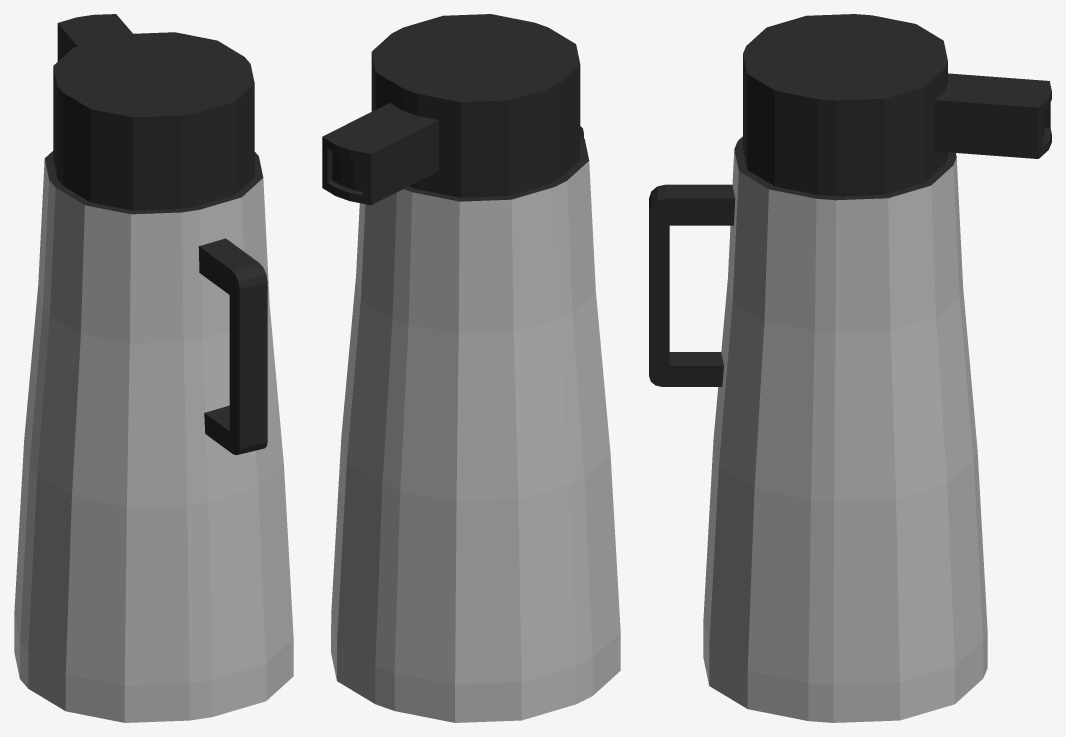
The model's file is Teapot_1.fbx.
The picture shows the model from 3 angles, left to right: view 1: azimuth 30°, elevation 25°; view 2: azimuth 150°, elevation 25°; view 3: azimuth 270°, elevation 25°; orthographic projection. The views are drawn at different scales.
Parts seen in each view (by area): view 1: Teapot_1; view 2: Teapot_1; view 3: Teapot_1.
Boxes of the visible parts, left/top/right/bottom form: Teapot_1: left=14, top=14, right=293, bottom=722; Teapot_1: left=322, top=14, right=620, bottom=722; Teapot_1: left=649, top=14, right=1051, bottom=722.
Size of the model in its own units: 0.0576 by 0.1354 by 0.0816.
